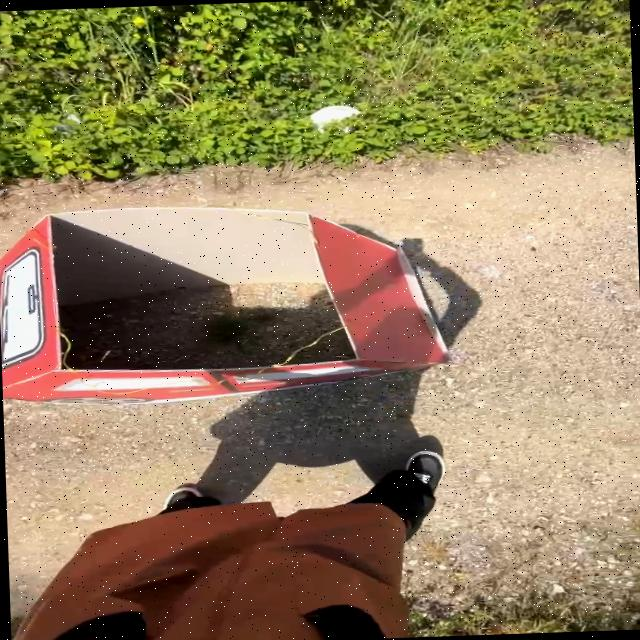red_car: (0, 172, 483, 437)
